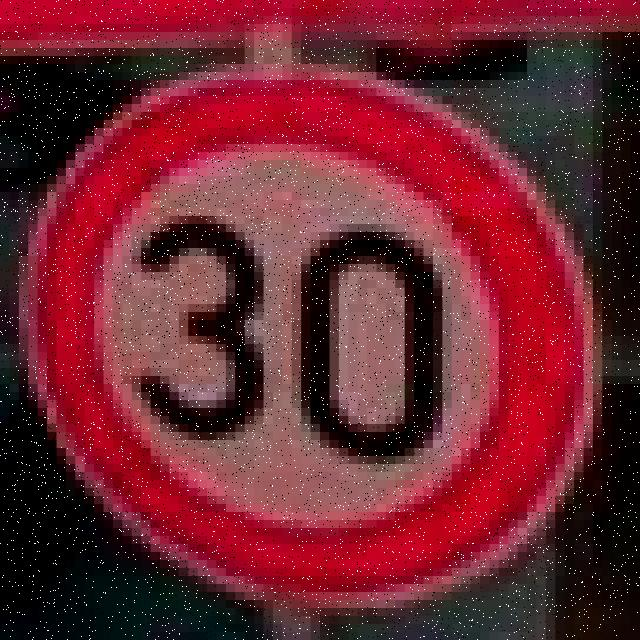Ograniczenie predkosci do 30: (18, 56, 574, 592)
